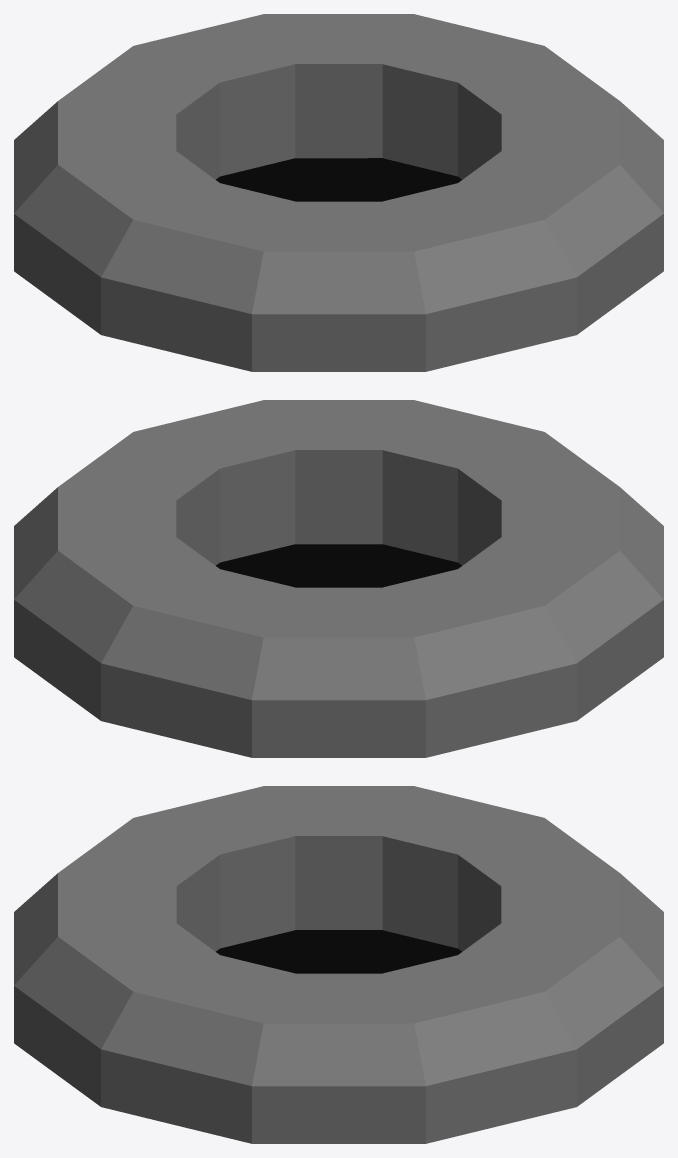
Rendered from SingleSpikeStoneTrap_3.fbx.
3 views of the same model, one above another, from view 1: azimuth 30°, elevation 25°; view 2: azimuth 150°, elevation 25°; view 3: azimuth 270°, elevation 25° (orthographic).
Visible parts, largest first — view 1: SingleSpikeStoneTrap_3; view 2: SingleSpikeStoneTrap_3; view 3: SingleSpikeStoneTrap_3.
Boxes of the visible parts, <box> form: SingleSpikeStoneTrap_3: <box>14,14,663,371</box>; SingleSpikeStoneTrap_3: <box>14,400,663,757</box>; SingleSpikeStoneTrap_3: <box>14,786,663,1143</box>.
Size of the model in its own units: 18.4 by 3.18 by 18.4.
